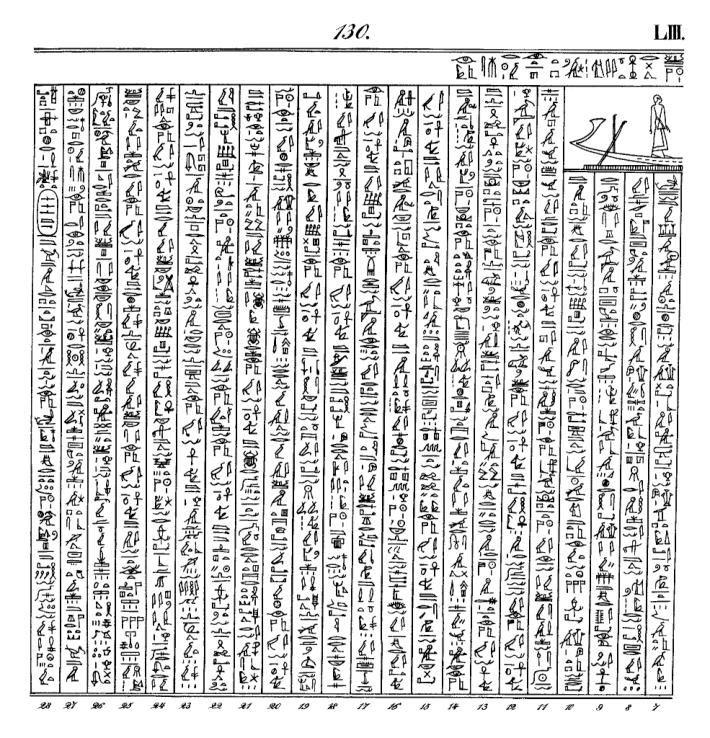circle: (32, 188, 64, 237)
